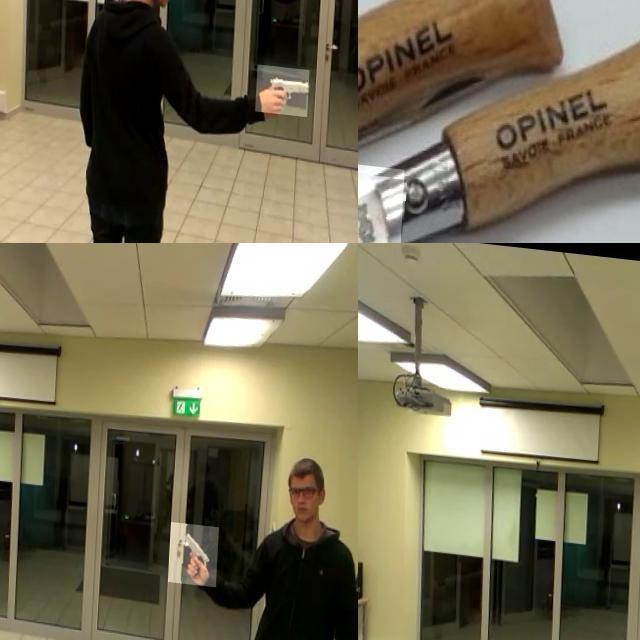-: (358, 138, 497, 243)
gun-knife-thesis - v11 Yolov5 augmented: (172, 512, 222, 576), (260, 56, 314, 108)
